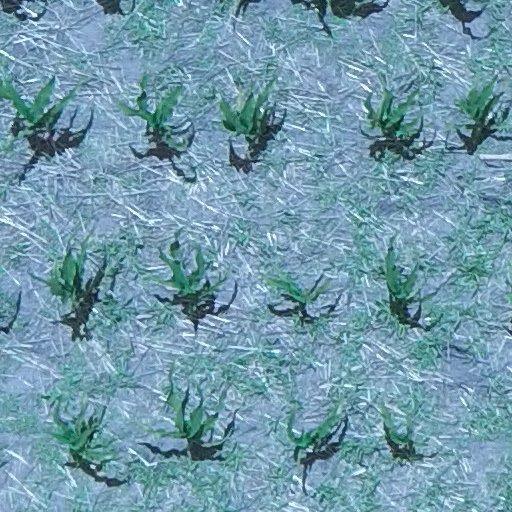planta: (134, 359, 239, 446), (117, 74, 187, 152), (145, 241, 222, 306), (39, 230, 93, 318), (363, 74, 422, 139), (217, 78, 274, 139), (379, 245, 436, 305), (51, 411, 119, 461), (286, 402, 338, 463), (260, 271, 331, 304), (379, 405, 416, 447)
